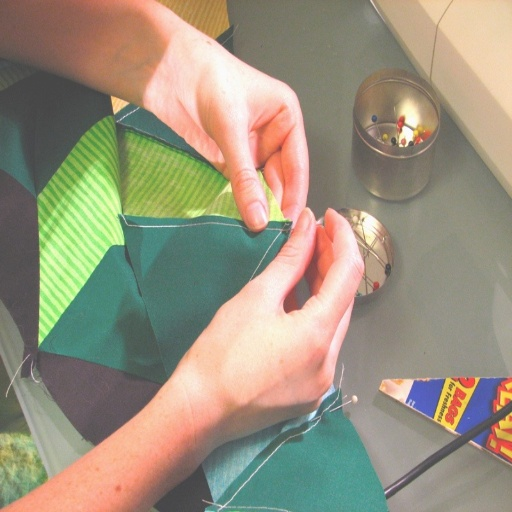hand: (116, 203, 378, 479), (149, 23, 309, 235)
